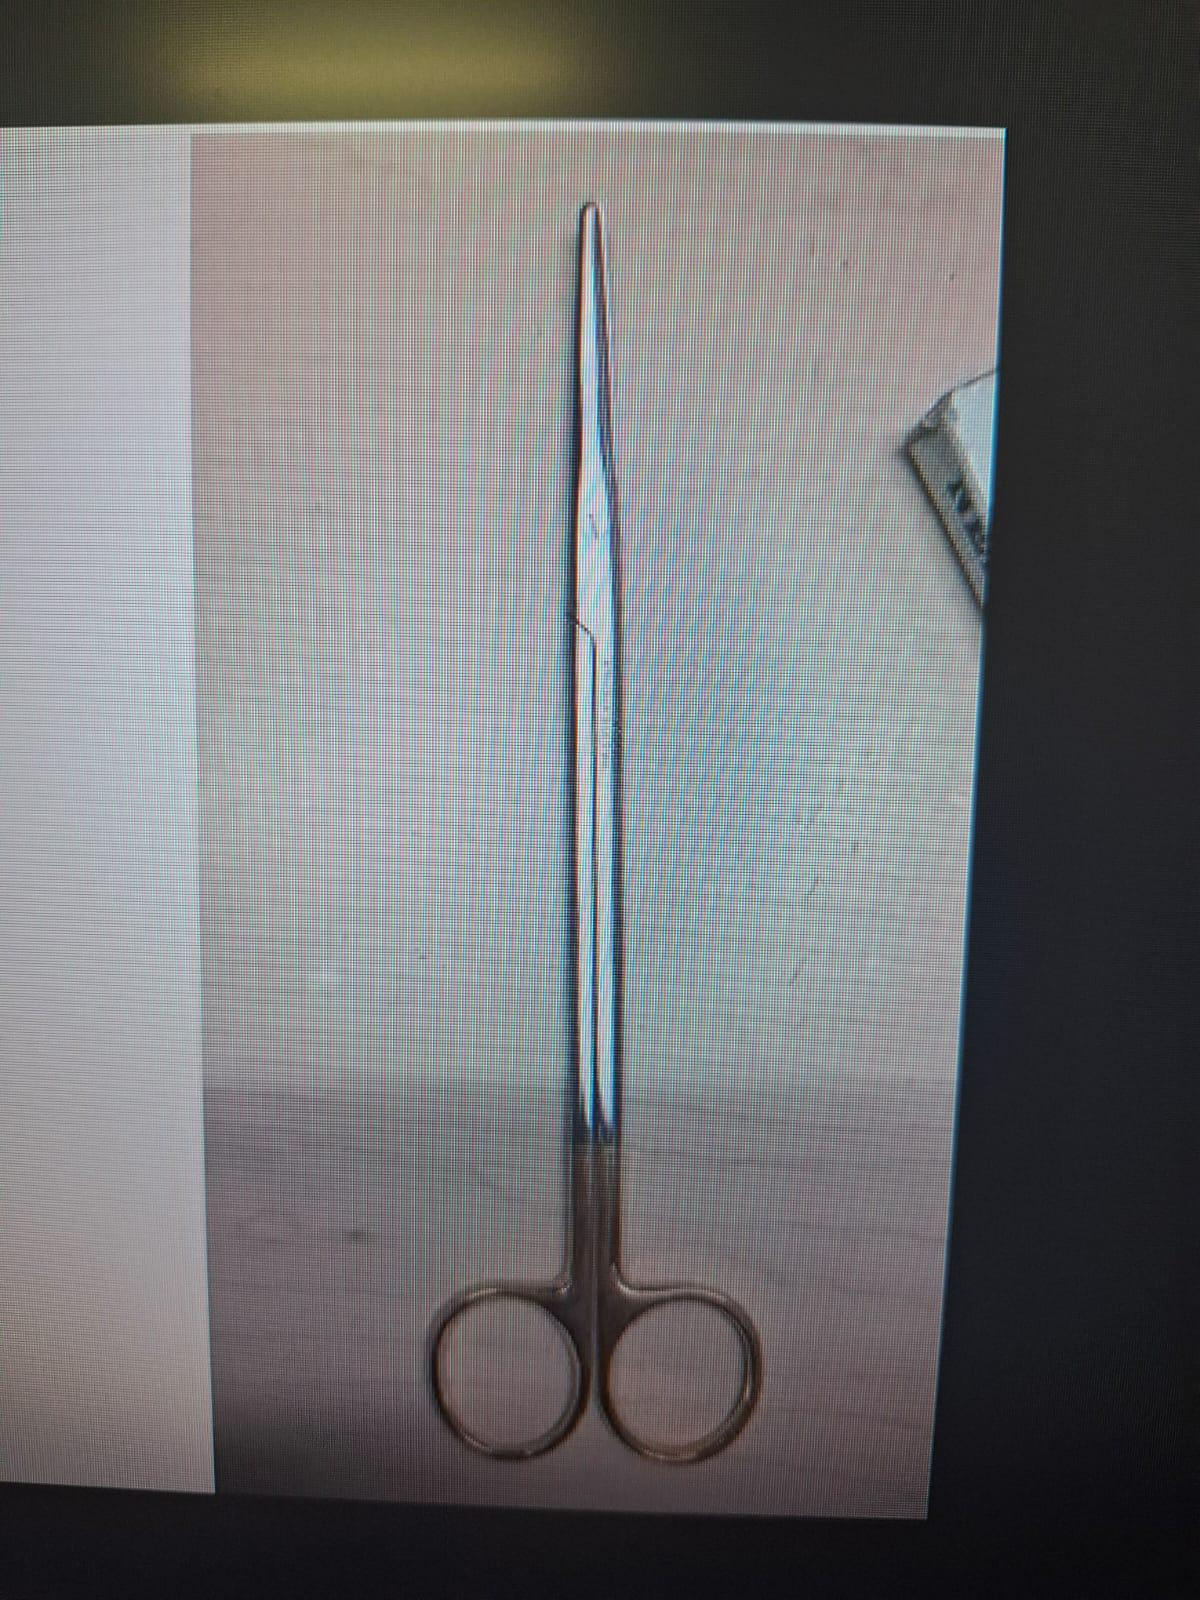Metzenbaum Sciccors: (410, 185, 768, 1468)
